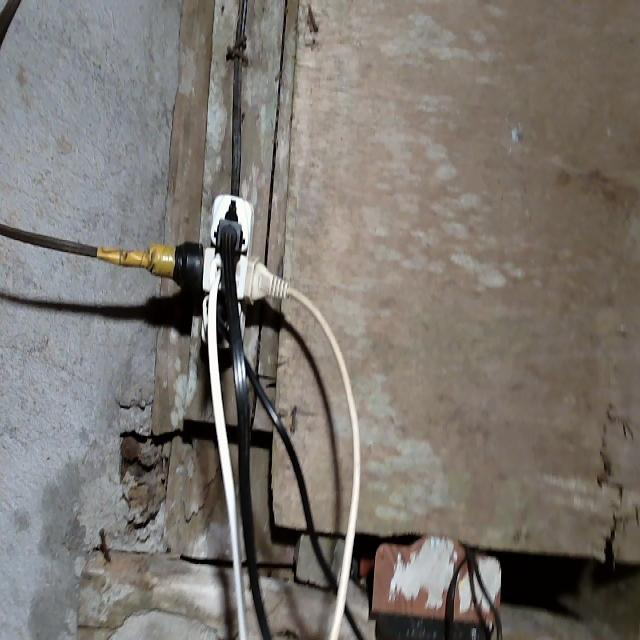-: (162, 188, 280, 352)
